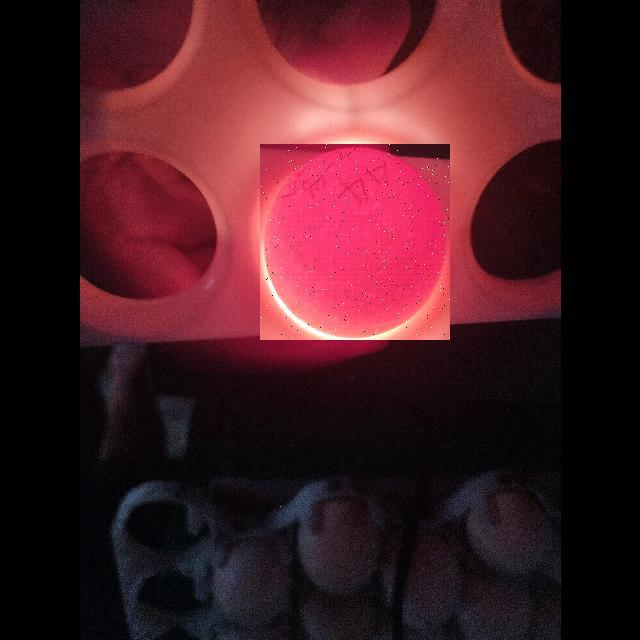Infertile: (260, 144, 450, 340)
